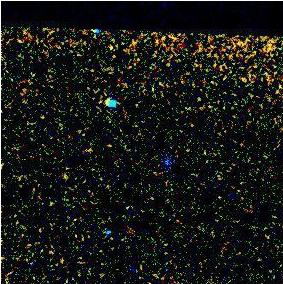star: (48, 160, 78, 190)
